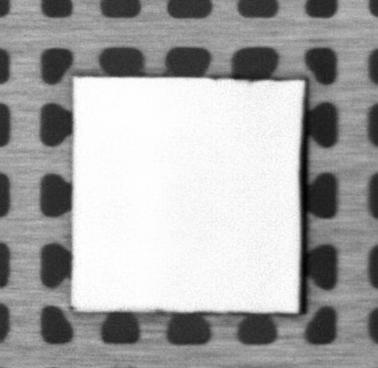DIE_BROKEN: (295, 99, 308, 318)
